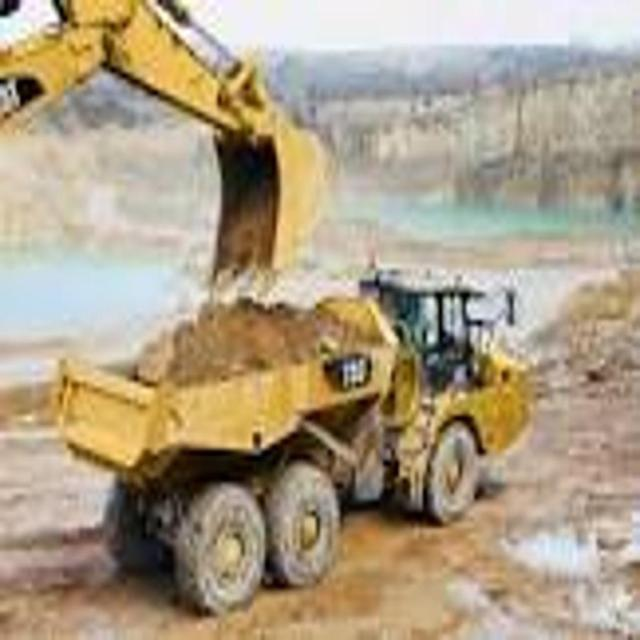dump_truck: (53, 289, 536, 615)
